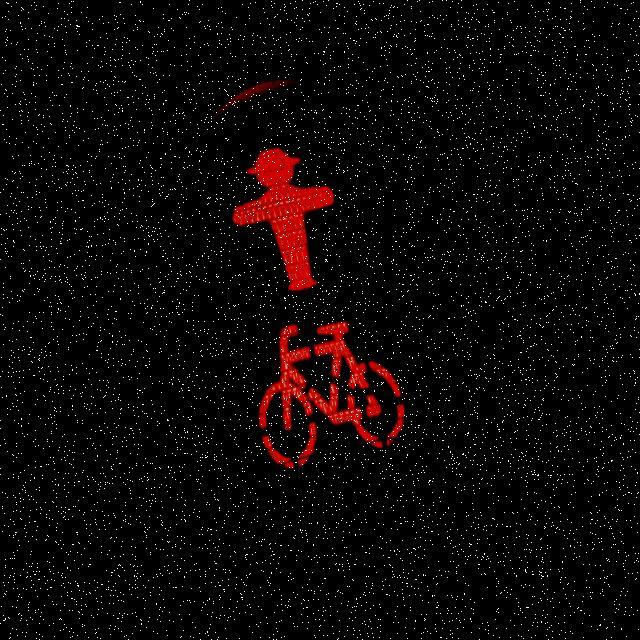red_light: (214, 128, 358, 309)
